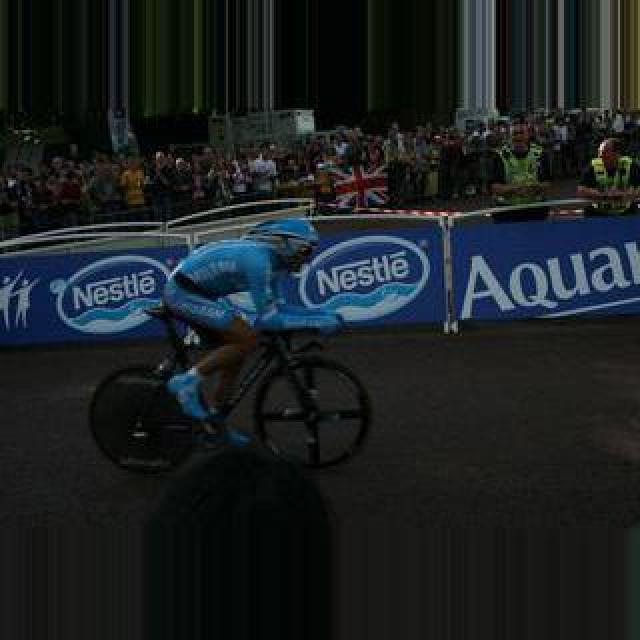MC-Bike: (576, 136, 640, 208), (490, 118, 548, 190)
Person: (88, 289, 372, 477)
